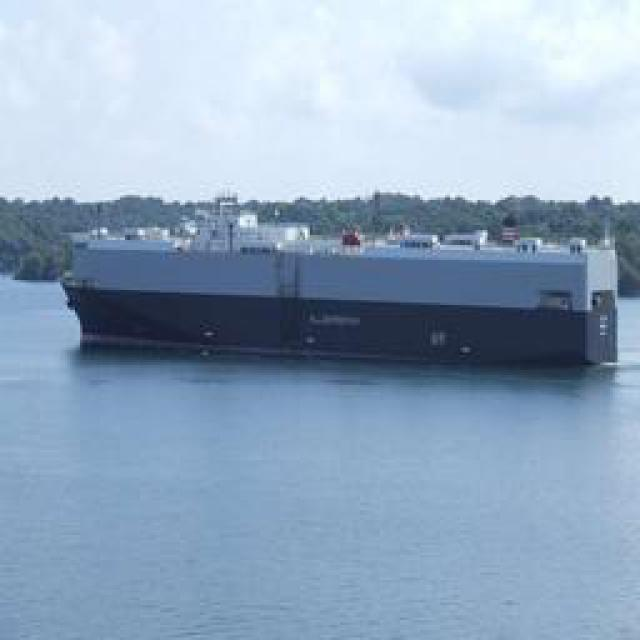Ship: (69, 240, 619, 365)
